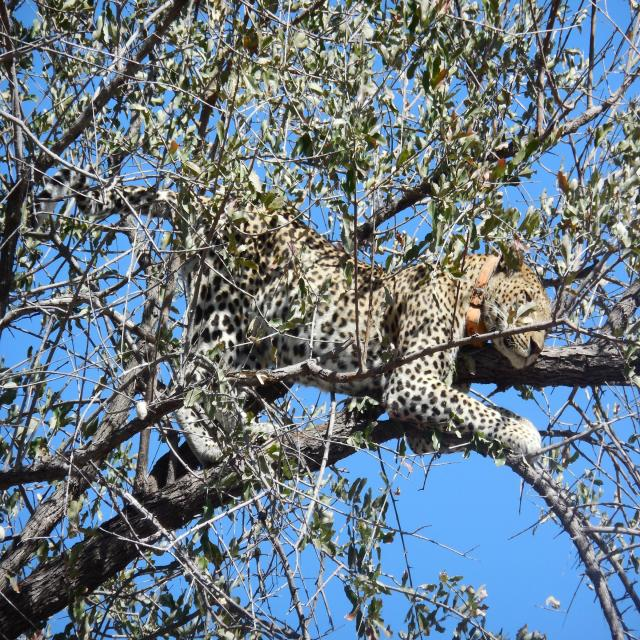Leopard: (33, 165, 536, 469)
